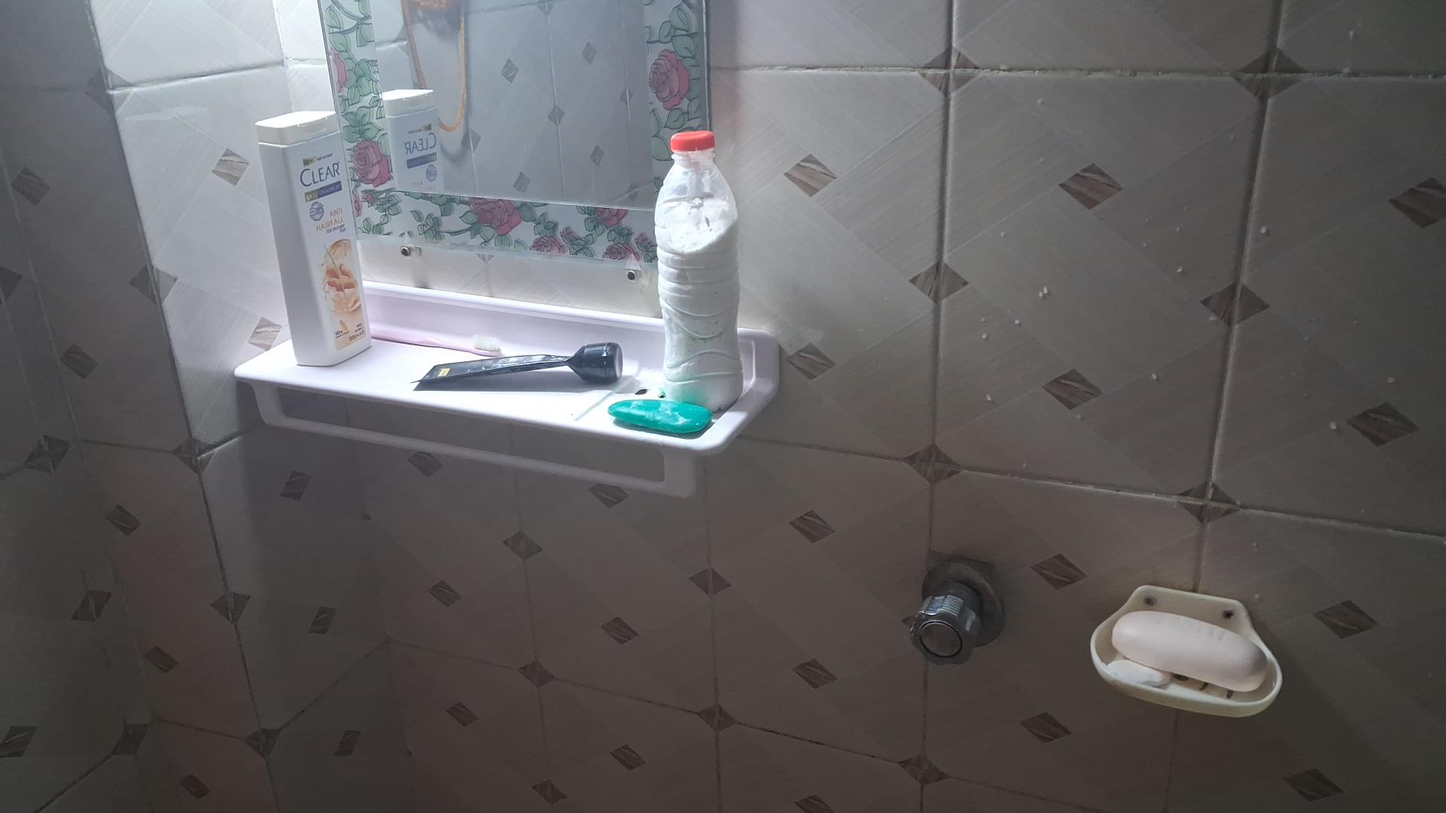Bottle: (253, 104, 378, 366), (654, 129, 743, 416)
Soap: (1107, 606, 1269, 694), (607, 389, 715, 441)
